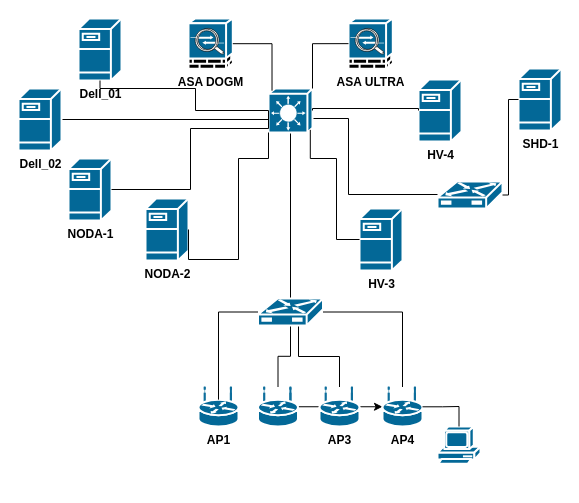
The diagram is 579 pixels wide and 503 high, and some of its shapes have lost their labels. The box of each missing label's shape, as (x1, y1, x2, y2) in pixels:
3T-Main: (267, 87, 313, 133)
AP2: (256, 386, 298, 427)
ClassRoom: (436, 425, 481, 466)
SW1: (436, 180, 503, 209)
SW2: (256, 297, 324, 326)
